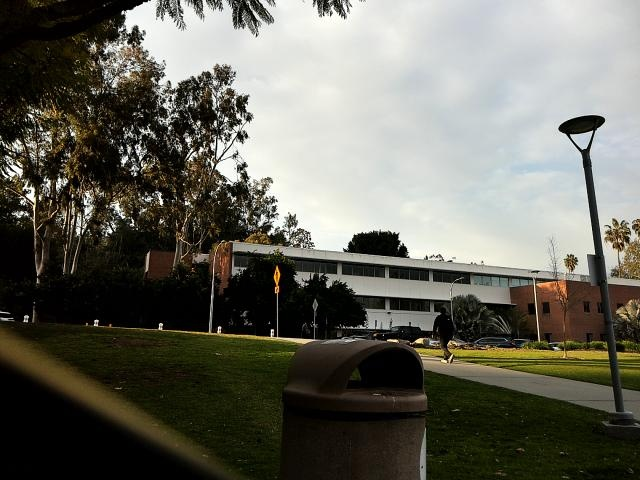trashcan: (274, 327, 431, 480)
